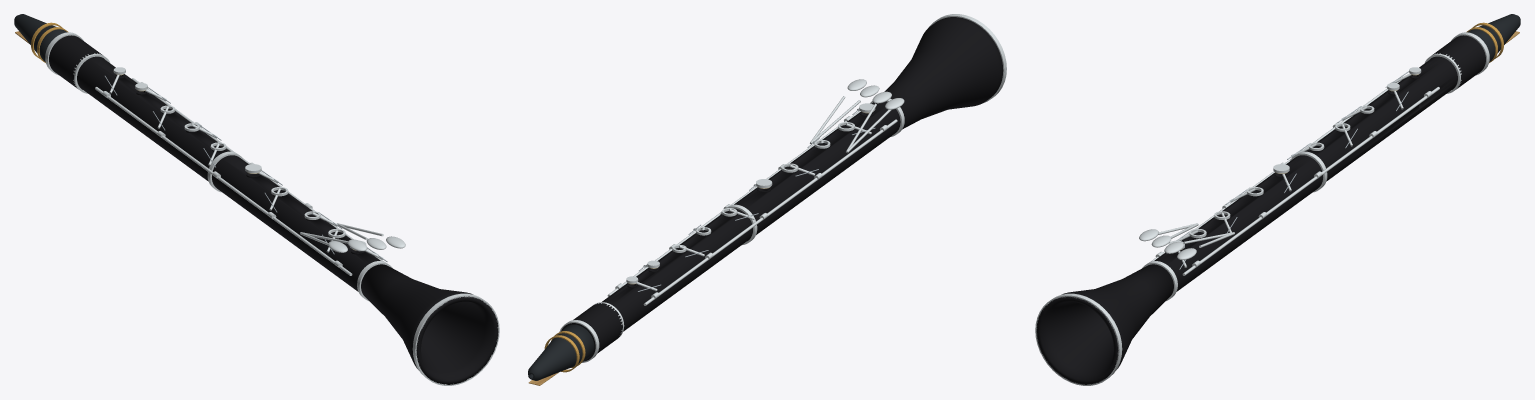
The model's file is 16_Clarinet.glb.
3 views of the same model, side by side, from view 1: azimuth 30°, elevation 25°; view 2: azimuth 150°, elevation 25°; view 3: azimuth 330°, elevation 25° (orthographic).
Visible parts, largest first — view 1: 01_grenadilla_body_bore_and_tone_holes, 02_silver_keywork_rods_and_rings, 04_mouthpiece_reed_and_ligature; view 2: 01_grenadilla_body_bore_and_tone_holes, 02_silver_keywork_rods_and_rings, 04_mouthpiece_reed_and_ligature; view 3: 01_grenadilla_body_bore_and_tone_holes, 02_silver_keywork_rods_and_rings, 04_mouthpiece_reed_and_ligature.
Part boxes in pixels (<box>): 01_grenadilla_body_bore_and_tone_holes: <box>49,35,498,384</box>; 02_silver_keywork_rods_and_rings: <box>45,32,499,385</box>; 04_mouthpiece_reed_and_ligature: <box>14,14,68,62</box>; 01_grenadilla_body_bore_and_tone_holes: <box>561,17,1003,361</box>; 02_silver_keywork_rods_and_rings: <box>559,14,1006,362</box>; 04_mouthpiece_reed_and_ligature: <box>528,324,594,385</box>; 01_grenadilla_body_bore_and_tone_holes: <box>1036,35,1485,384</box>; 02_silver_keywork_rods_and_rings: <box>1035,32,1489,385</box>; 04_mouthpiece_reed_and_ligature: <box>1466,14,1520,62</box>.
Size of the model in its own units: 0.074 by 0.074 by 0.668.
8 materials, 1 textured.
